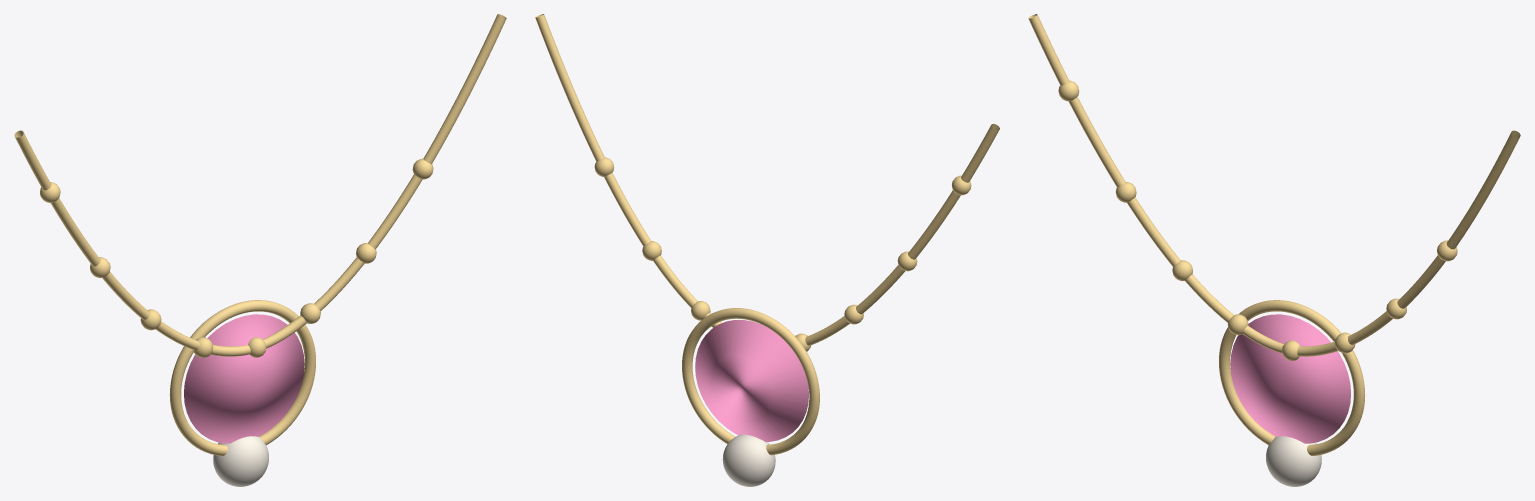
Rendered from round-necklace.v3.safe.glb.
The picture shows the model from 3 angles, left to right: view 1: azimuth 30°, elevation 25°; view 2: azimuth 150°, elevation 25°; view 3: azimuth 330°, elevation 25°; orthographic projection. The views are drawn at different scales.
Visible parts, largest first — view 1: round_center_gem, round_continuous_chain, round_bezel, round_lower_pearl; view 2: round_center_gem, round_continuous_chain, round_bezel, round_lower_pearl; view 3: round_center_gem, round_continuous_chain, round_bezel, round_lower_pearl.
Part boxes in pixels (x1,y1,x2,y2): round_center_gem: [184, 314, 304, 443]; round_continuous_chain: [14, 14, 506, 356]; round_bezel: [169, 300, 315, 456]; round_lower_pearl: [213, 436, 268, 486]; round_center_gem: [695, 320, 808, 441]; round_continuous_chain: [535, 14, 999, 345]; round_bezel: [682, 308, 819, 455]; round_lower_pearl: [722, 434, 775, 486]; round_center_gem: [1230, 314, 1350, 443]; round_continuous_chain: [1028, 14, 1520, 356]; round_bezel: [1219, 300, 1365, 456]; round_lower_pearl: [1266, 436, 1321, 486].
Size of the model in its own units: 1.38 by 1.15 by 0.1717.
